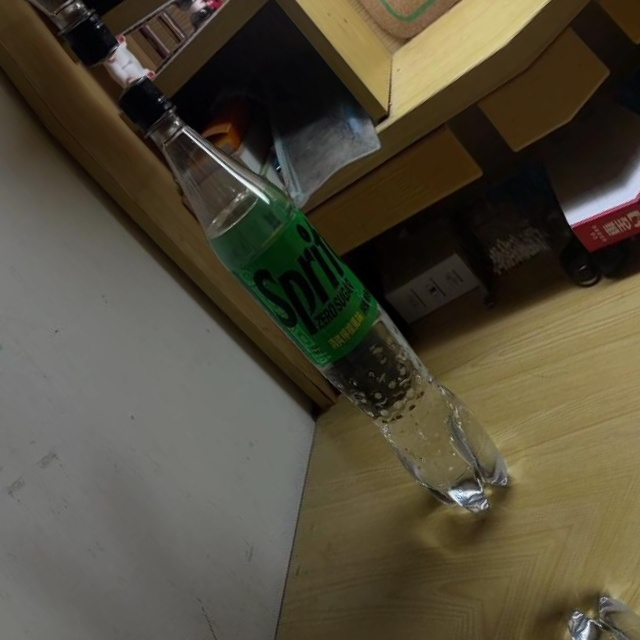Sprite: (94, 49, 537, 550)
